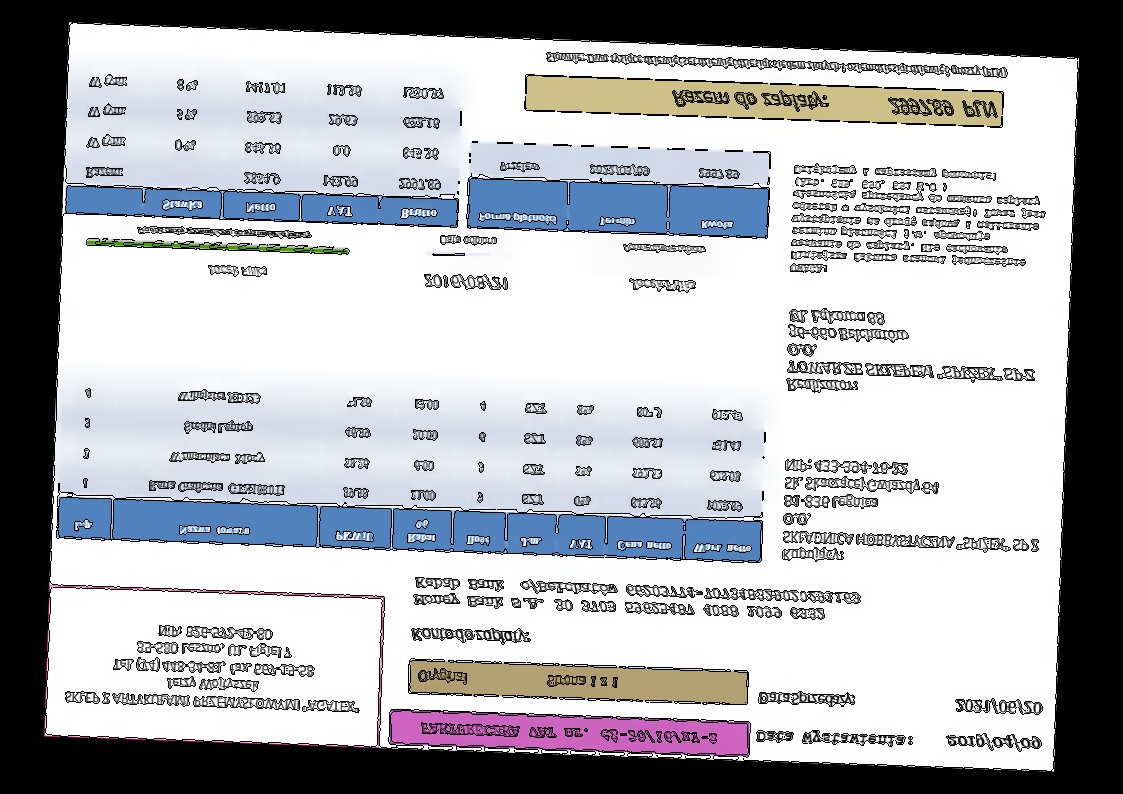Table: (55, 372, 769, 565), (63, 61, 464, 230), (465, 141, 772, 241)
TextBox: (779, 453, 1047, 574), (787, 162, 1050, 284), (60, 618, 365, 718), (783, 305, 1040, 403), (410, 574, 862, 624), (543, 47, 1010, 82), (668, 86, 999, 122), (418, 720, 721, 747), (415, 665, 622, 694), (135, 221, 313, 244), (753, 727, 914, 751), (407, 622, 533, 650), (755, 687, 857, 712), (419, 269, 510, 294), (943, 730, 1045, 752), (953, 694, 1042, 718), (625, 275, 699, 297), (619, 240, 709, 258), (205, 261, 271, 281), (438, 233, 498, 249)
